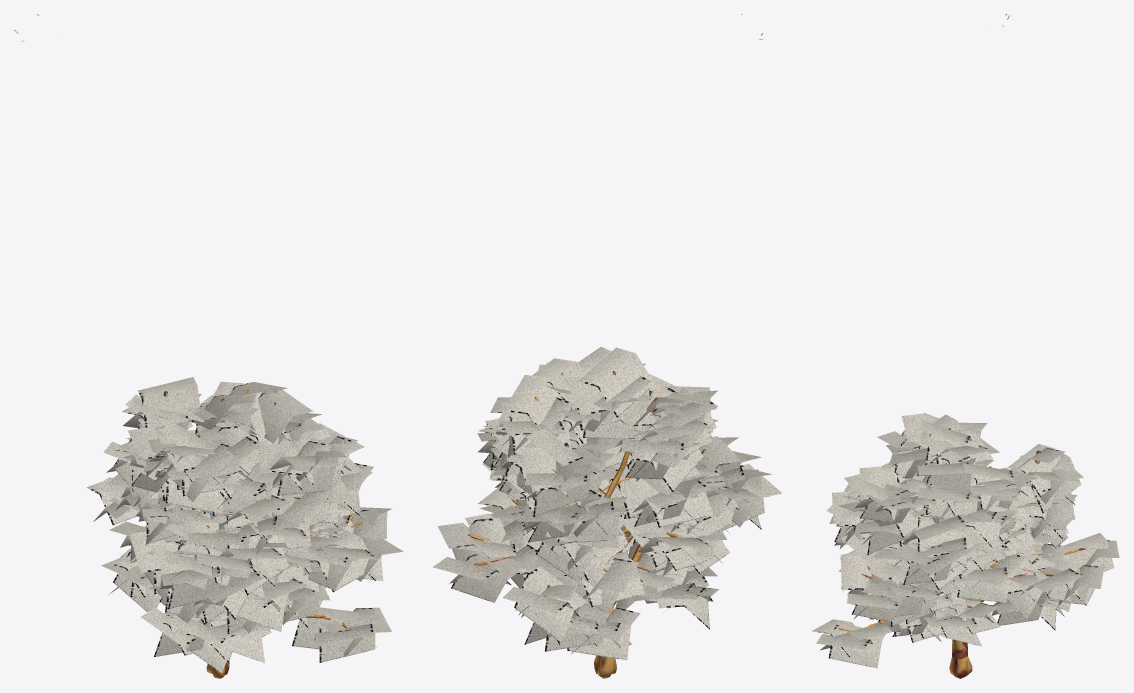
File: Tree4.obj
The picture shows the model from 3 angles, left to right: view 1: azimuth 30°, elevation 25°; view 2: azimuth 150°, elevation 25°; view 3: azimuth 270°, elevation 25°; orthographic projection. The views are drawn at different scales.
Visible parts, largest first — view 1: Walnut_L.734, Walnut_L.670, Walnut_L.481, Walnut_L.483, Walnut_L.574, Walnut_L.637, Walnut_L.553, Walnut_L.458, Walnut_L.513, Walnut_L.496, Walnut_L.619, Walnut_L.493 (+27 smaller); view 2: Walnut_L.824, Walnut_L.700, Walnut_L.790, Walnut_L.696, Walnut_L.819, Walnut_L.733, Walnut_L.726, Walnut_L.489, Walnut_L.681, Walnut_L.692, Walnut_L.451, Walnut_L.670 (+34 smaller); view 3: Walnut_L.485, Walnut_L.698, Walnut_L.735, Walnut_L.573, Walnut_L.689, Walnut_L.478, Walnut_L.671, Walnut_L.610, Walnut_L.643, Walnut_L.650, Walnut_L.695, Walnut_L.609 (+23 smaller).
Boxes of the visible parts, bbox=[...] form: Walnut_L.734: bbox=[138, 377, 200, 429]; Walnut_L.670: bbox=[250, 389, 313, 443]; Walnut_L.481: bbox=[292, 607, 358, 652]; Walnut_L.483: bbox=[319, 608, 375, 662]; Walnut_L.574: bbox=[313, 530, 376, 592]; Walnut_L.637: bbox=[277, 451, 343, 495]; Walnut_L.553: bbox=[165, 477, 223, 513]; Walnut_L.458: bbox=[227, 593, 289, 631]; Walnut_L.513: bbox=[168, 567, 224, 609]; Walnut_L.496: bbox=[211, 611, 264, 662]; Walnut_L.619: bbox=[279, 490, 333, 524]; Walnut_L.493: bbox=[184, 617, 244, 673]; Walnut_L.824: bbox=[578, 347, 654, 417]; Walnut_L.700: bbox=[514, 566, 587, 642]; Walnut_L.790: bbox=[503, 375, 566, 425]; Walnut_L.696: bbox=[451, 553, 529, 602]; Walnut_L.819: bbox=[583, 395, 651, 438]; Walnut_L.733: bbox=[533, 454, 595, 516]; Walnut_L.726: bbox=[557, 497, 627, 543]; Walnut_L.489: bbox=[656, 564, 709, 629]; Walnut_L.681: bbox=[545, 602, 606, 651]; Walnut_L.692: bbox=[452, 518, 511, 561]; Walnut_L.451: bbox=[635, 524, 711, 570]; Walnut_L.670: bbox=[532, 358, 585, 409]; Walnut_L.485: bbox=[828, 622, 885, 668]; Walnut_L.698: bbox=[1064, 533, 1114, 571]; Walnut_L.735: bbox=[1007, 444, 1060, 496]; Walnut_L.573: bbox=[840, 555, 871, 595]; Walnut_L.689: bbox=[1007, 556, 1042, 618]; Walnut_L.478: bbox=[957, 580, 1007, 602]; Walnut_L.671: bbox=[923, 457, 976, 508]; Walnut_L.610: bbox=[918, 517, 966, 563]; Walnut_L.643: bbox=[876, 480, 931, 537]; Walnut_L.650: bbox=[965, 521, 1004, 556]; Walnut_L.695: bbox=[1058, 565, 1104, 605]; Walnut_L.609: bbox=[905, 515, 966, 542].
Size of the model in its own units: 15.99 by 33.05 by 15.48.
Materials: 2 (2 with a texture image).
